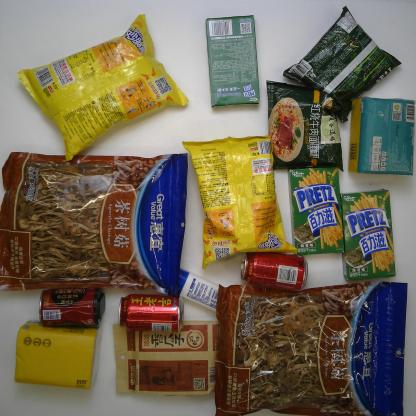Canned Food: (38, 287, 106, 329)
Dessert: (285, 165, 347, 257), (340, 186, 397, 282), (205, 13, 262, 109)
Dried Food: (0, 151, 190, 298), (214, 278, 408, 416), (111, 320, 221, 398)
Drink: (115, 293, 186, 333), (239, 252, 309, 292)
Instant Noodles: (282, 5, 403, 123), (265, 79, 346, 173)
Personal Hygiene: (177, 267, 218, 309)
Puffed Food: (15, 13, 189, 162), (182, 134, 299, 270)
Tissue: (14, 319, 104, 391), (347, 95, 416, 177)
